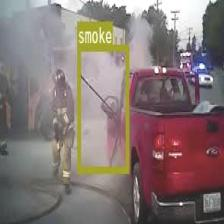smoke: (77, 43, 128, 171)
